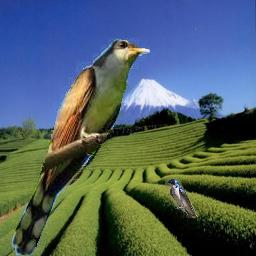Cuckoo: (12, 39, 150, 256)
Swallow: (166, 178, 199, 218)
